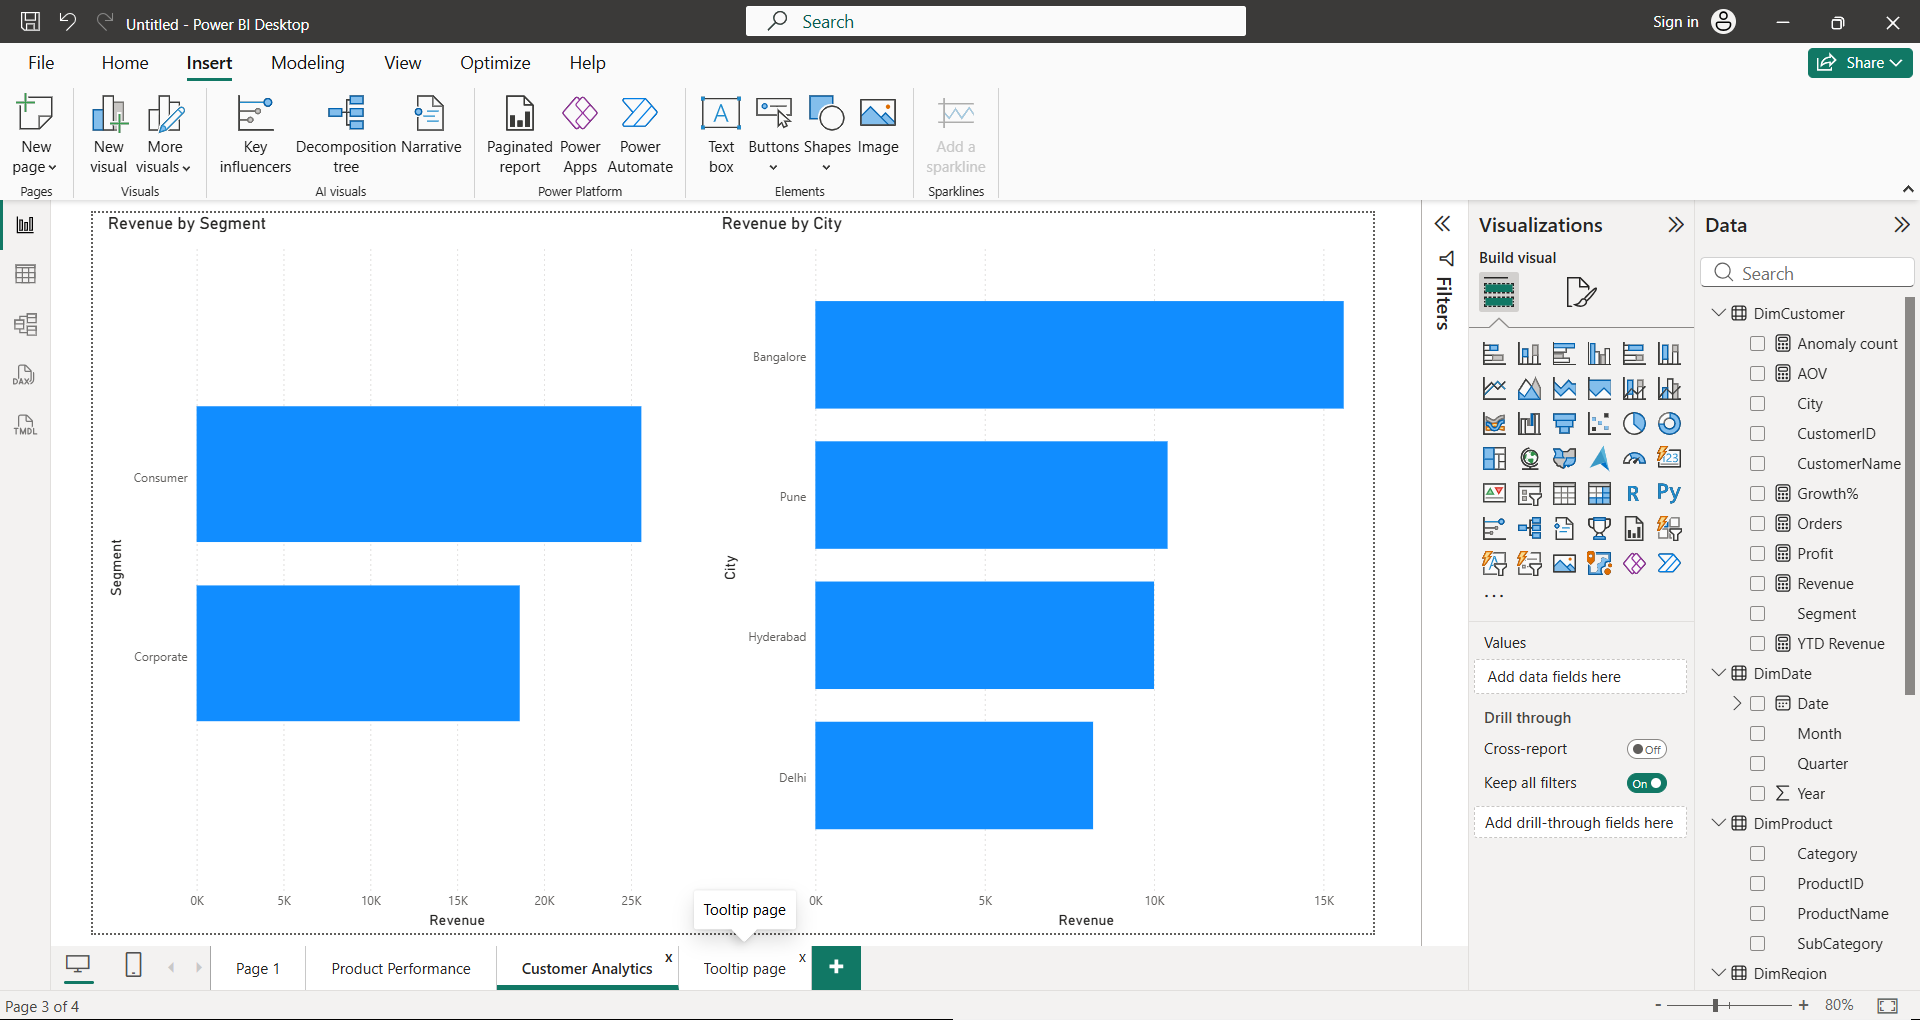

The page's visual inventory and layout, read from the dashboard file:
{"tool":"powerbi","page":{"name":"Customer Analytics","canvas":[1280,720],"ordinal":2},"visuals":[{"type":"clusteredBarChart","fields":{"Category":["DimCustomer.Segment"],"Y":["DimCustomer.Revenue"]},"box":[10,0,630,720],"z":0},{"type":"clusteredBarChart","fields":{"Category":["DimCustomer.City"],"Y":["DimCustomer.Revenue"]},"box":[624.3,0,655.7,720],"z":1000}]}

Visuals, with their boxes on the page's 1280x720 design canvas (x1, y1, x2, y2). These are canvas units, not pixel positions in the 1920x1020 screenshot, which may show the page scaled, cropped or inside an application window:
clusteredBarChart - DimCustomer.Segment x DimCustomer.Revenue: left=10, top=0, right=640, bottom=720
clusteredBarChart - DimCustomer.City x DimCustomer.Revenue: left=624, top=0, right=1280, bottom=720
